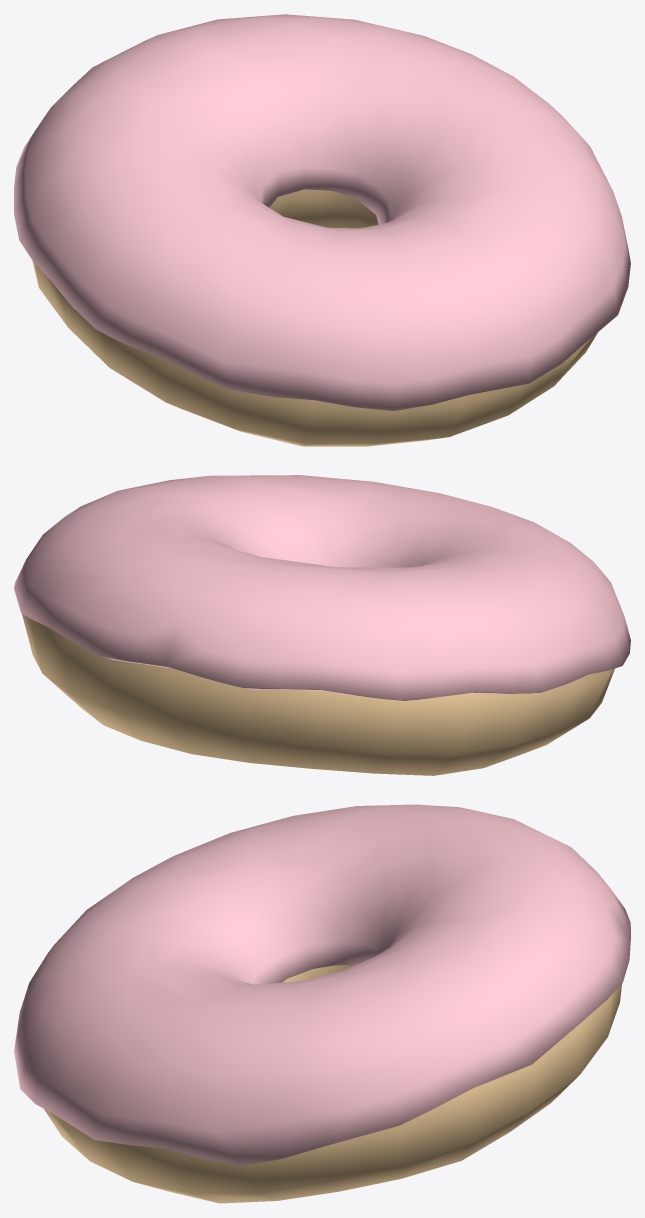
File: DonutR.glb
3 views of the same model, one above another, from view 1: azimuth 30°, elevation 25°; view 2: azimuth 150°, elevation 25°; view 3: azimuth 270°, elevation 25° (orthographic).
Visible parts, largest first — view 1: DonutR; view 2: DonutR; view 3: DonutR.
Boxes of the visible parts, x1,y1,x2,y2 form: DonutR: (14,14,630,446); DonutR: (14,475,630,775); DonutR: (14,804,630,1203).
Size of the model in its own units: 0.5799 by 0.2639 by 0.566.
